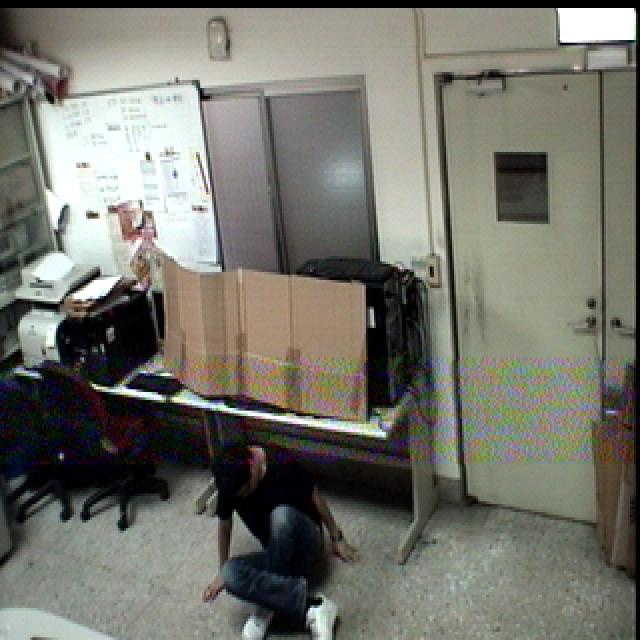sit: (196, 421, 365, 640)
